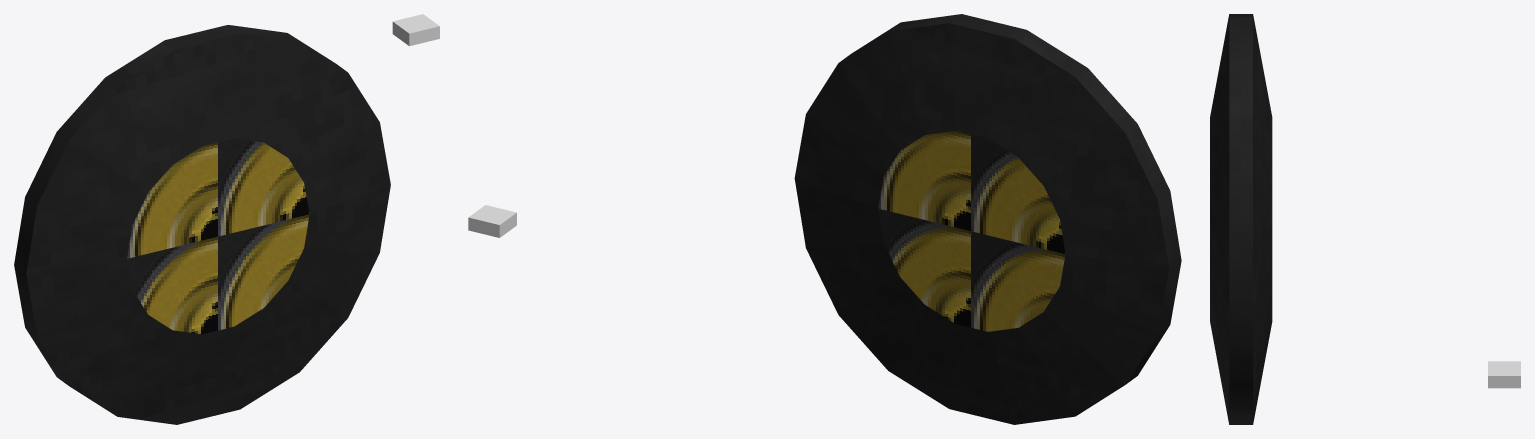
Rendered from Tire.FBX.
3 renders of one model, left to right at view 1: azimuth 30°, elevation 25°; view 2: azimuth 150°, elevation 25°; view 3: azimuth 270°, elevation 25°, orthographic. The views are drawn at different scales.
Visible parts, largest first — view 1: Rubber, Tire, Master Objects; view 2: Rubber, Tire, Master Objects; view 3: Rubber, Master Objects.
Boxes of the visible parts, box(x1,y1,x2,y2) form: Rubber: box(14, 25, 390, 424); Tire: box(127, 138, 309, 334); Master Objects: box(392, 14, 439, 46); Rubber: box(794, 14, 1181, 424); Tire: box(878, 131, 1065, 331); Master Objects: box(468, 205, 516, 237); Rubber: box(1210, 14, 1272, 424); Master Objects: box(1488, 361, 1520, 388).
Size of the model in its own units: 129 by 65.09 by 85.12.
Materials: 2 (2 with a texture image).
